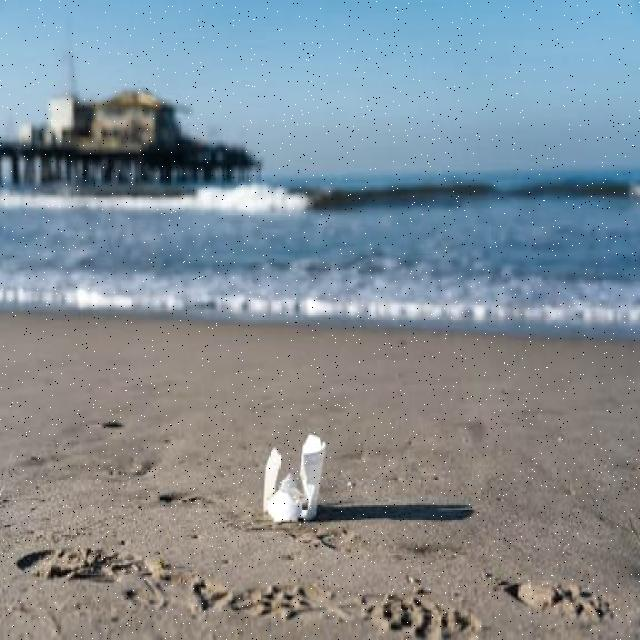styrofoam: (251, 417, 372, 559)
